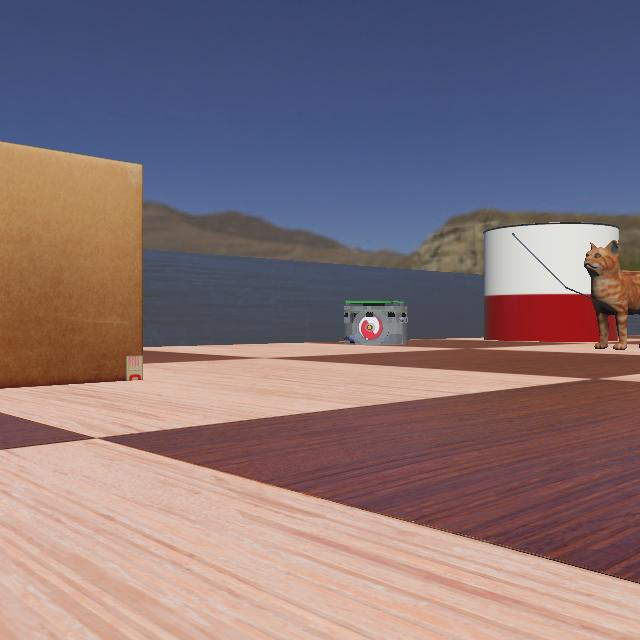cardboard-box: (0, 112, 174, 398)
cat: (557, 238, 639, 350), (557, 238, 639, 350), (557, 238, 639, 350)
paint-bucket: (469, 218, 639, 344), (469, 218, 639, 344)
